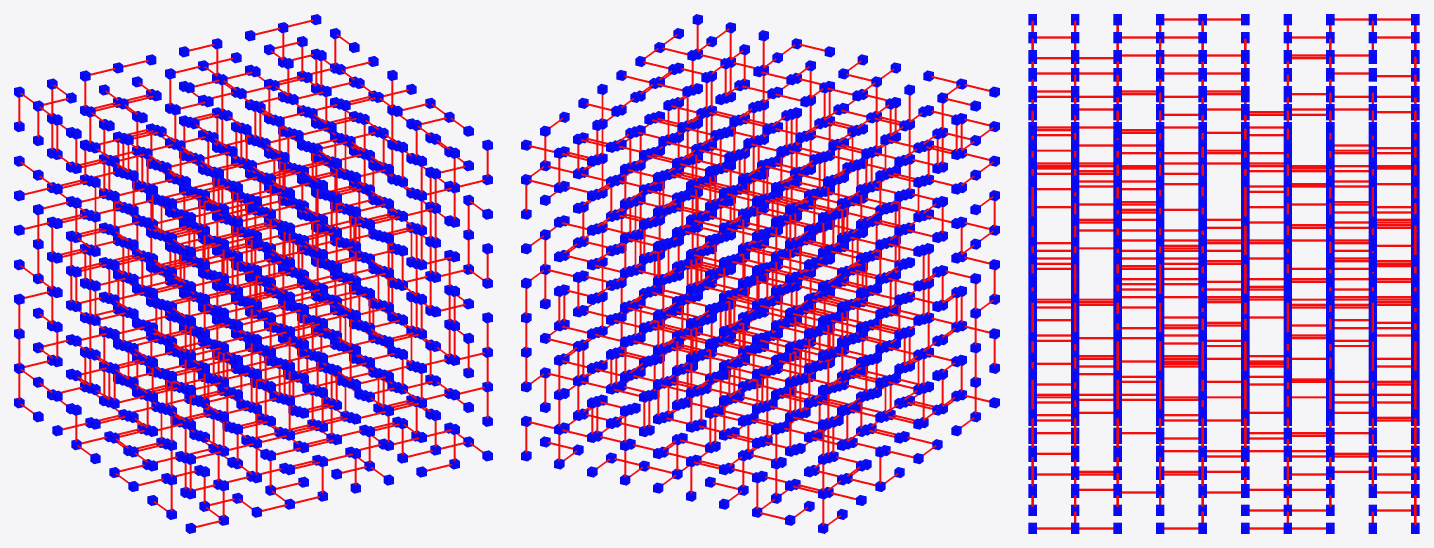
Rendered from Connected.glb.
3 views of the same model, side by side, from view 1: azimuth 30°, elevation 25°; view 2: azimuth 150°, elevation 25°; view 3: azimuth 270°, elevation 25° (orthographic). The views are drawn at different scales.
Size of the model in its own units: 9.2 by 9.2 by 9.2.
